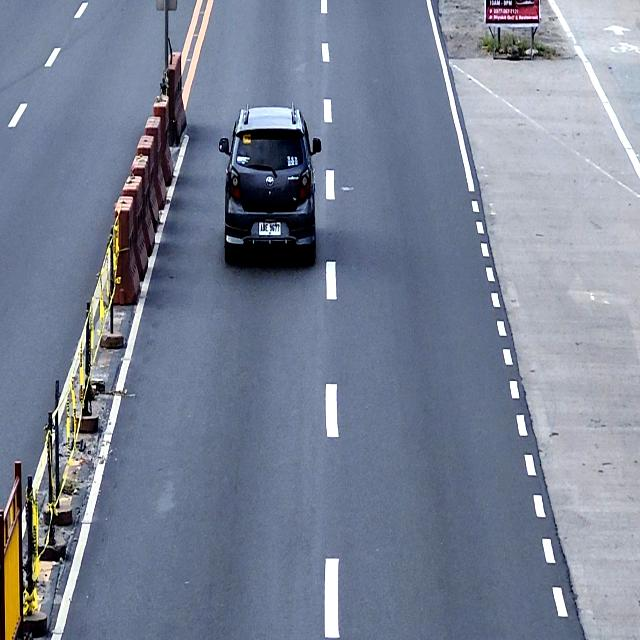Car: (218, 102, 321, 264)
License-Plate: (257, 218, 282, 236)
